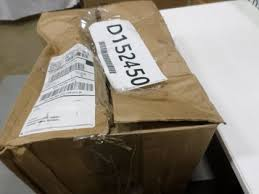damaged package: (69, 13, 144, 166), (28, 15, 80, 79)
